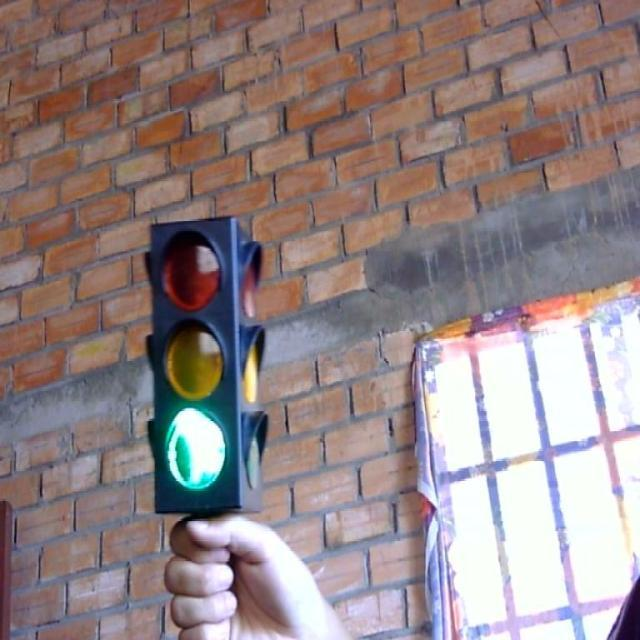green light: (160, 402, 237, 499)
